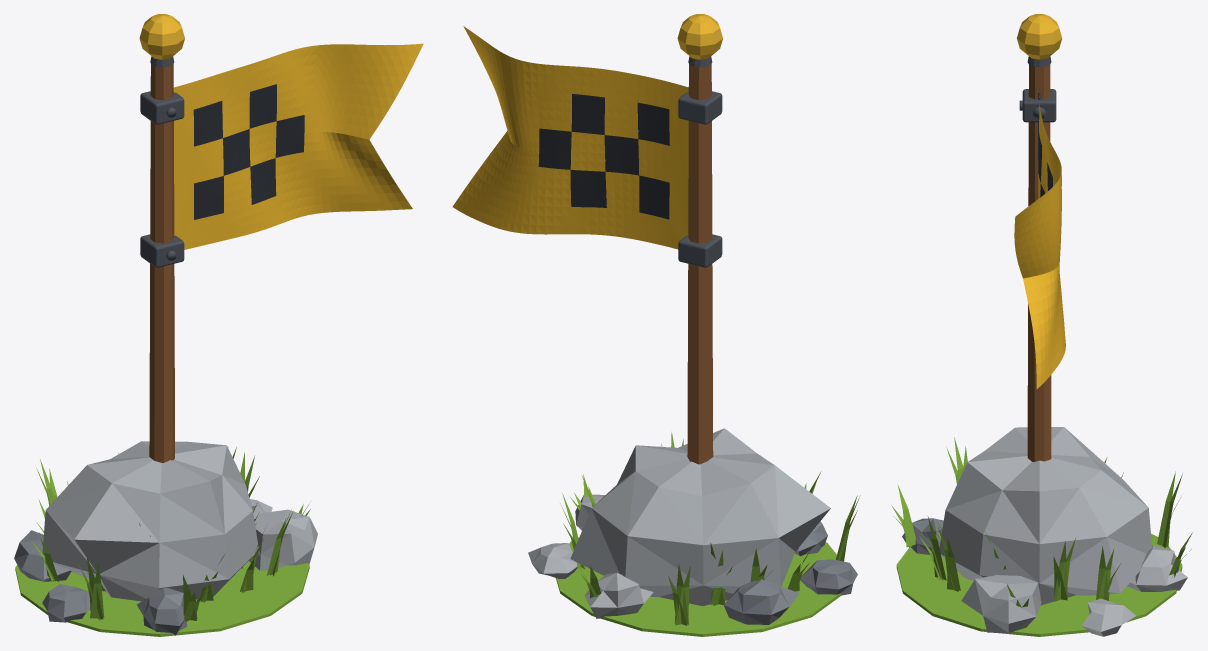
File: checkpoint_flag.glb
3 renders of one model, left to right at view 1: azimuth 30°, elevation 25°; view 2: azimuth 150°, elevation 25°; view 3: azimuth 270°, elevation 25°, orthographic.
Visible parts, largest first — view 1: Footing, FlagCloth, PoleAndHardware; view 2: Footing, FlagCloth, PoleAndHardware; view 3: Footing, FlagCloth, PoleAndHardware.
Part boxes in pixels (<box>): Footing: <box>14,441,317,636</box>; FlagCloth: <box>173,43,423,249</box>; PoleAndHardware: <box>139,14,184,462</box>; Footing: <box>528,428,860,636</box>; FlagCloth: <box>452,26,688,249</box>; PoleAndHardware: <box>677,14,722,464</box>; Footing: <box>891,427,1192,636</box>; FlagCloth: <box>1014,95,1065,388</box>; PoleAndHardware: <box>1017,14,1062,461</box>.
Bounding box in the file's own units: 2.58 × 3.6 × 1.77.
